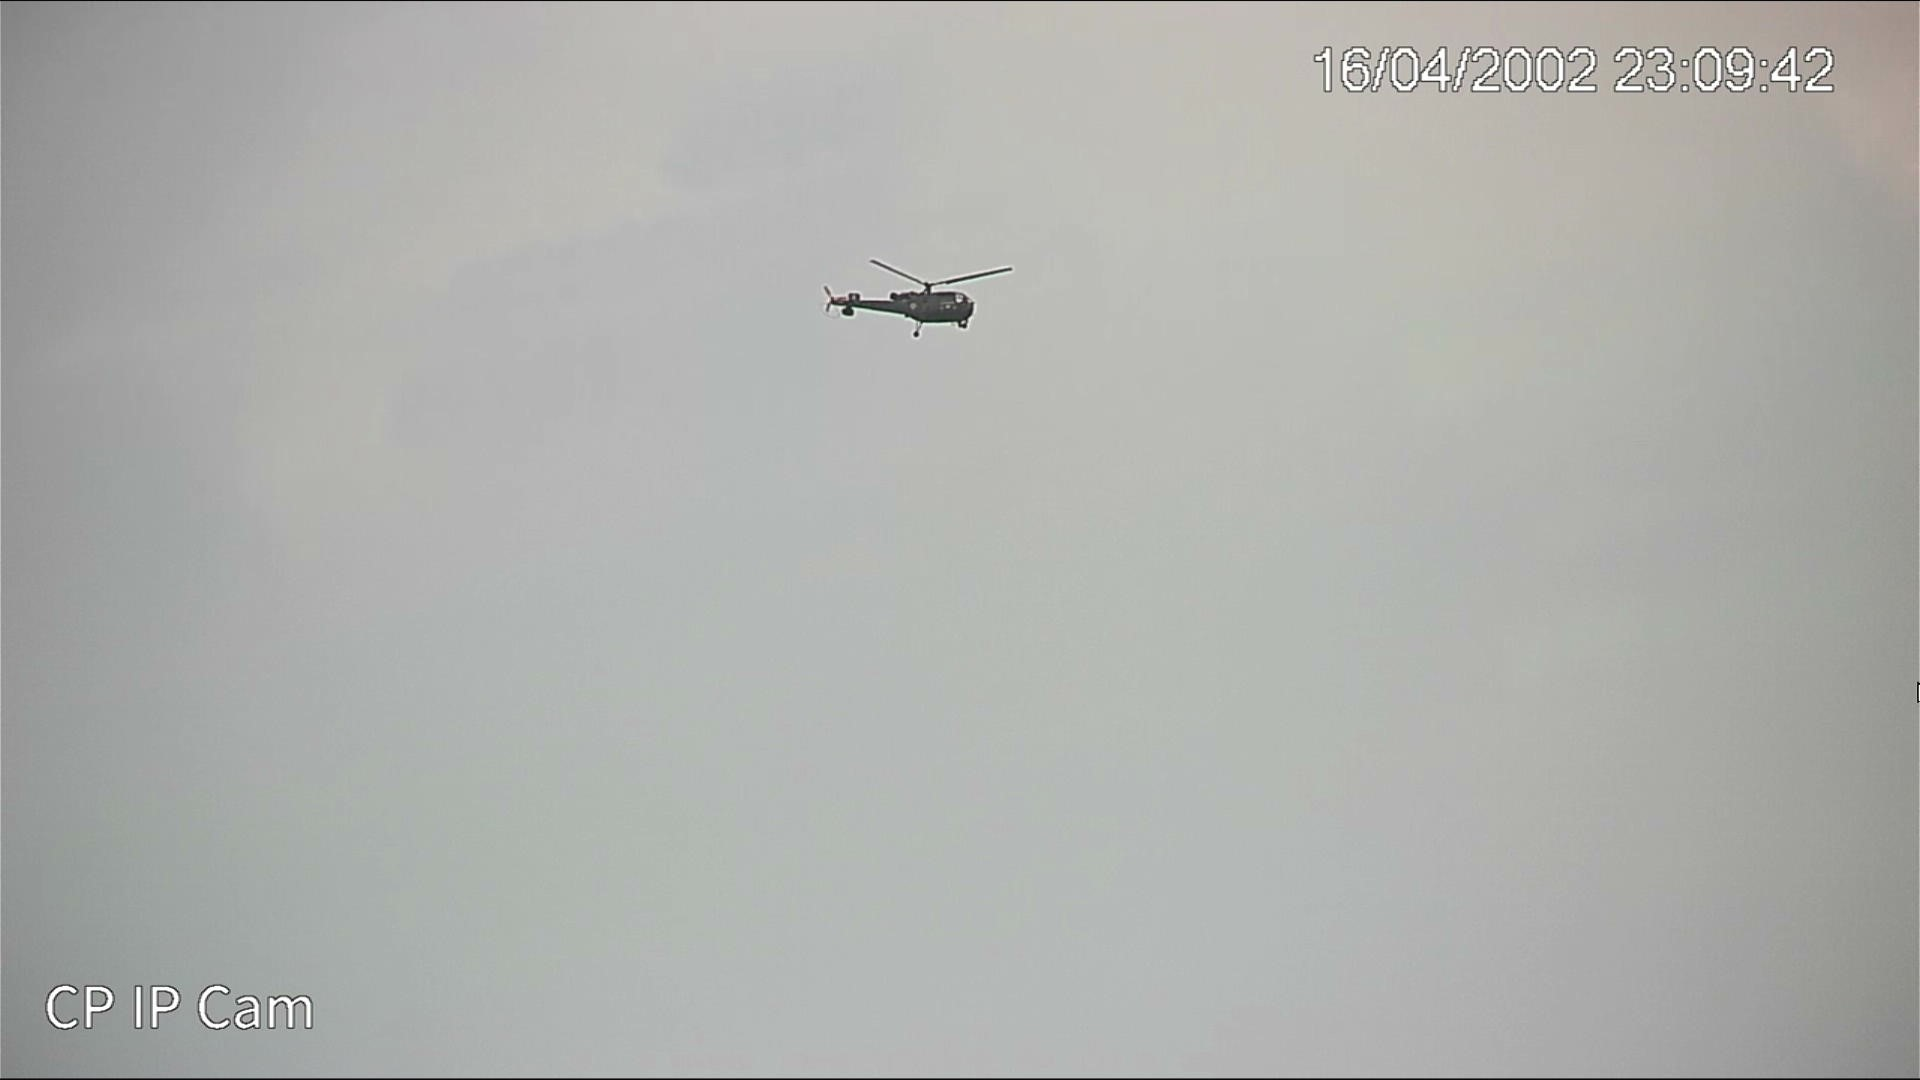SU_30: (822, 276, 982, 332)
